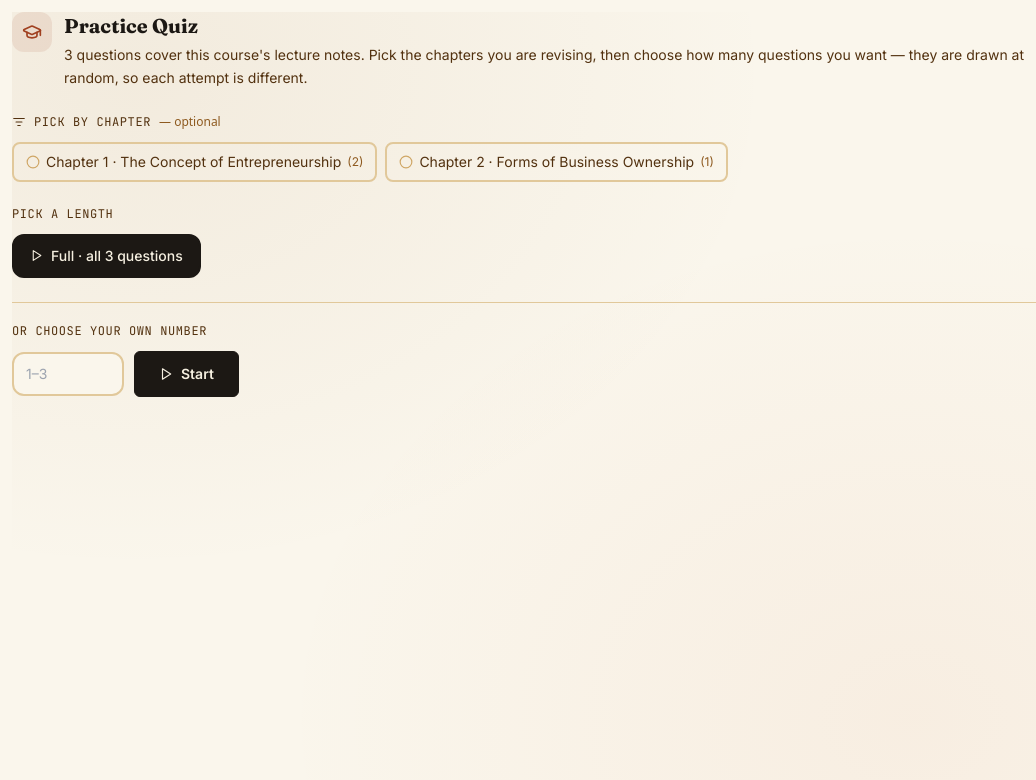
Test case: the chapter picker › bounds the custom number by the narrowed pool, not the whole bank
Click the button "Chapter 2 · Forms of Business Ownership (1)" at (557, 162), box top-left (385, 142), bottom-right (728, 182)
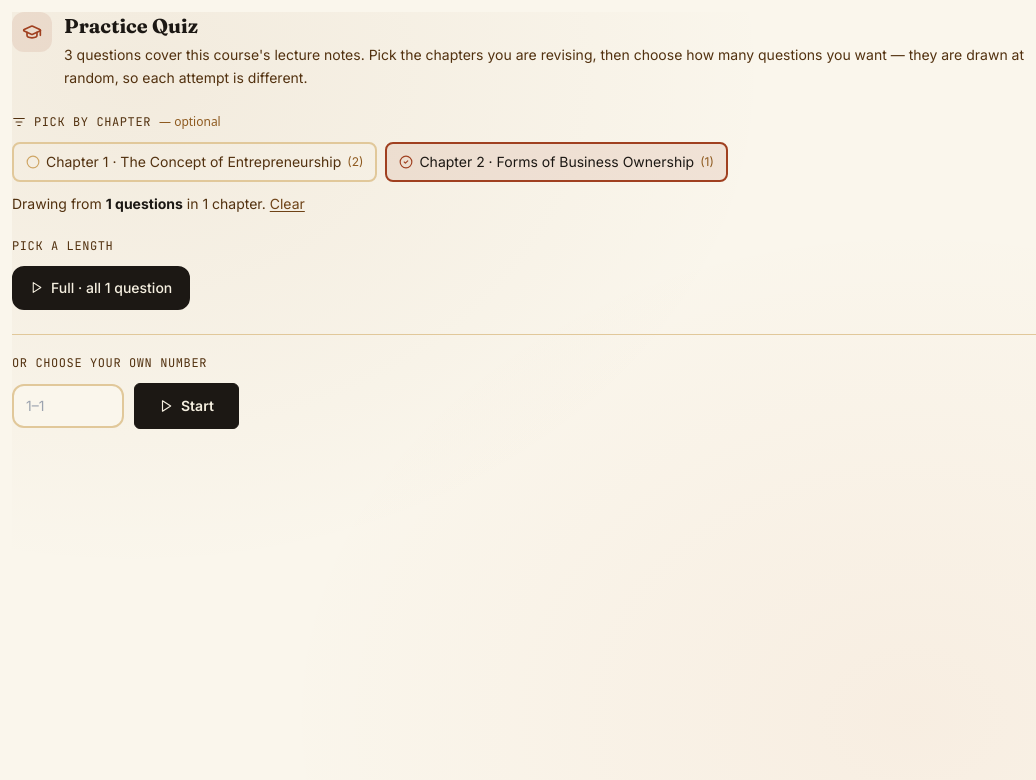
Type "3" into the number field named "Number of questions" at (68, 406), box top-left (12, 384), bottom-right (124, 428)
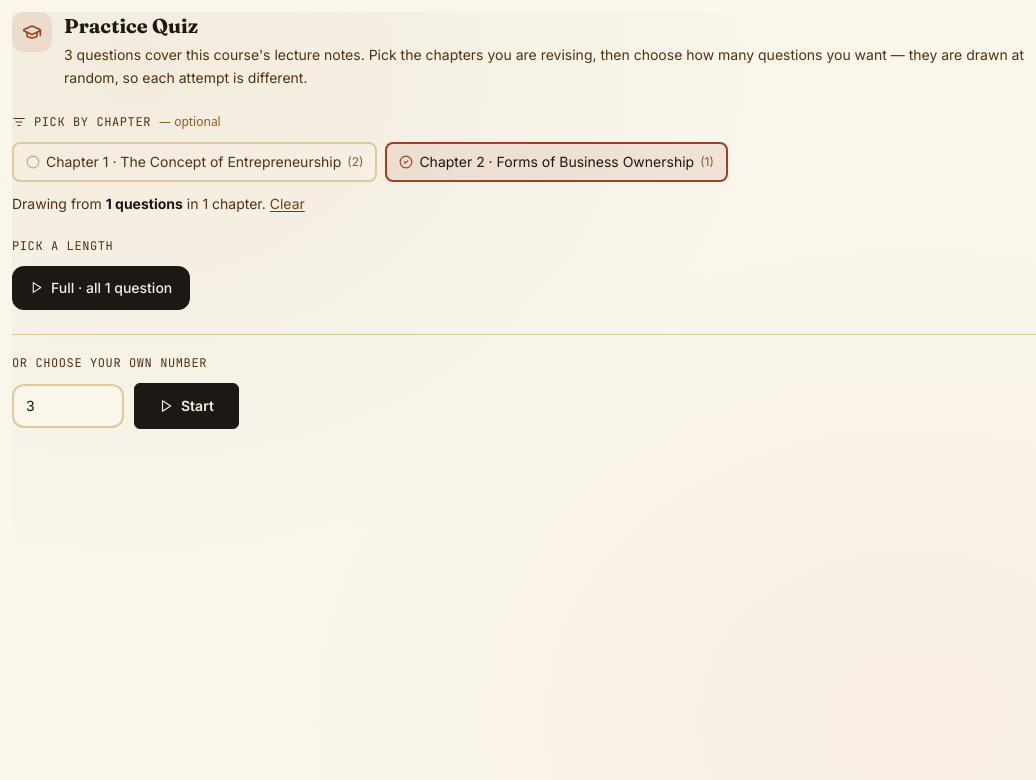
Click the button "Start" at (186, 406), box top-left (134, 382), bottom-right (239, 428)
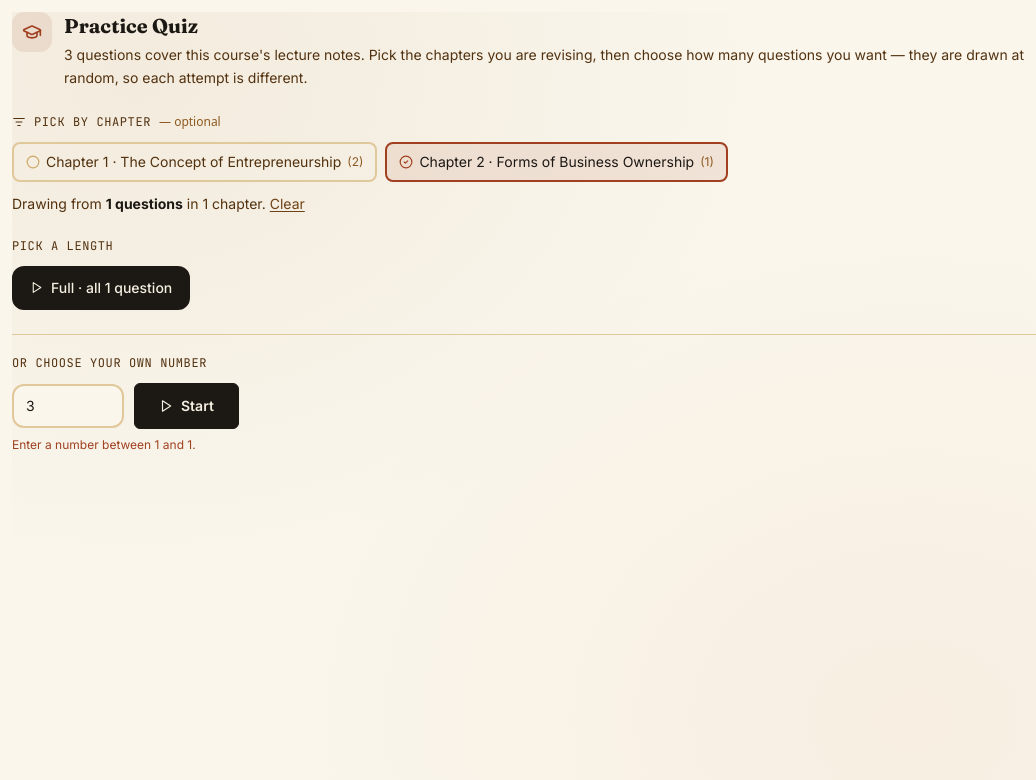
Expected: the text "Enter a number between 1 and 1." is shown, top-left (12, 436), bottom-right (196, 452)
